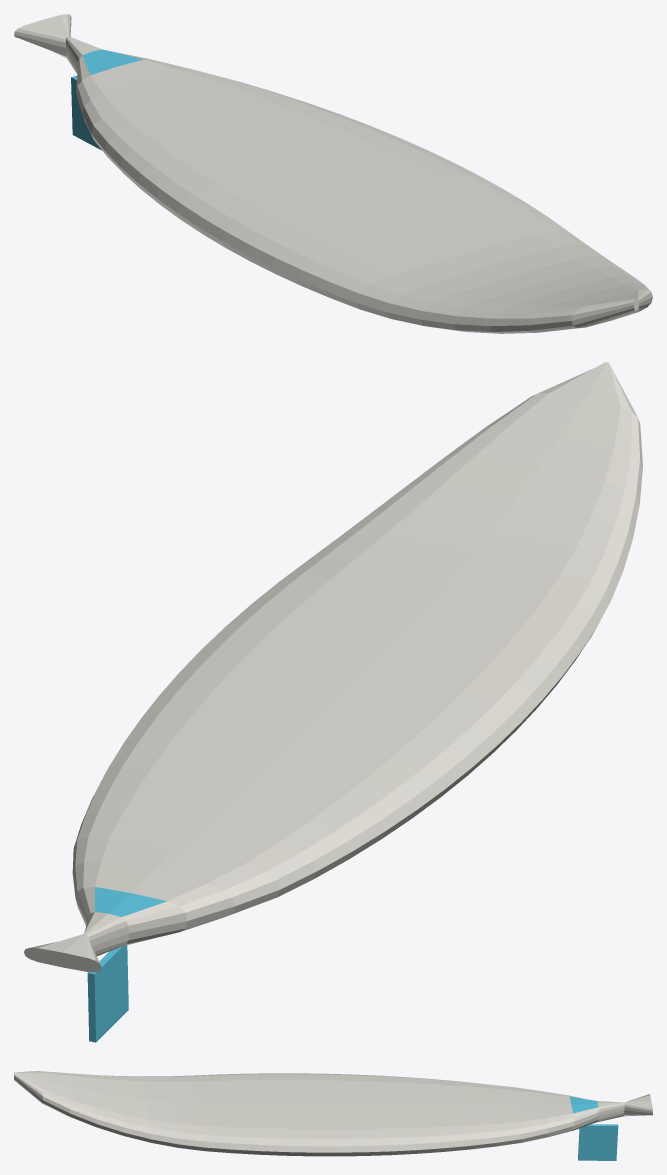
The model's file is Surfboard.glb.
The picture shows the model from 3 angles, top to bottom: view 1: azimuth 30°, elevation 25°; view 2: azimuth 150°, elevation 25°; view 3: azimuth 270°, elevation 25°; orthographic projection. The views are drawn at different scales.
Parts seen in each view (by area): view 1: Surf_Board, Surf_Fin; view 2: Surf_Board, Surf_Fin; view 3: Surf_Board, Surf_Fin.
Part boxes in pixels (<box>): Surf_Board: <box>14,14,652,333</box>; Surf_Fin: <box>71,76,101,150</box>; Surf_Board: <box>24,362,642,972</box>; Surf_Fin: <box>87,945,128,1042</box>; Surf_Board: <box>14,1071,652,1156</box>; Surf_Fin: <box>578,1124,618,1160</box>.
Bounding box in the file's own units: 0.5735 × 0.3748 × 1.99.
